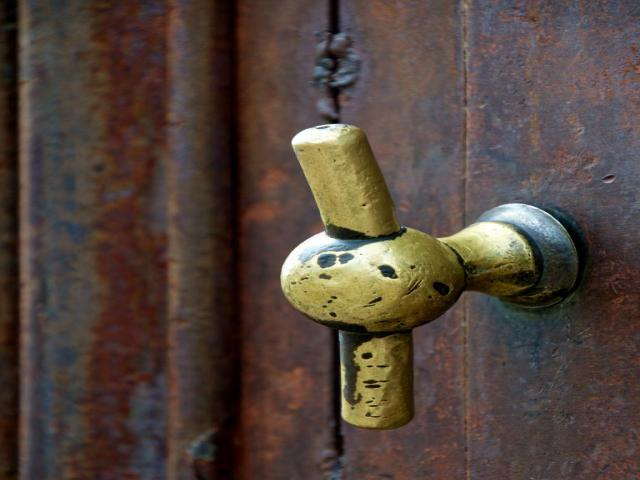Door-handle: (278, 124, 584, 433)
